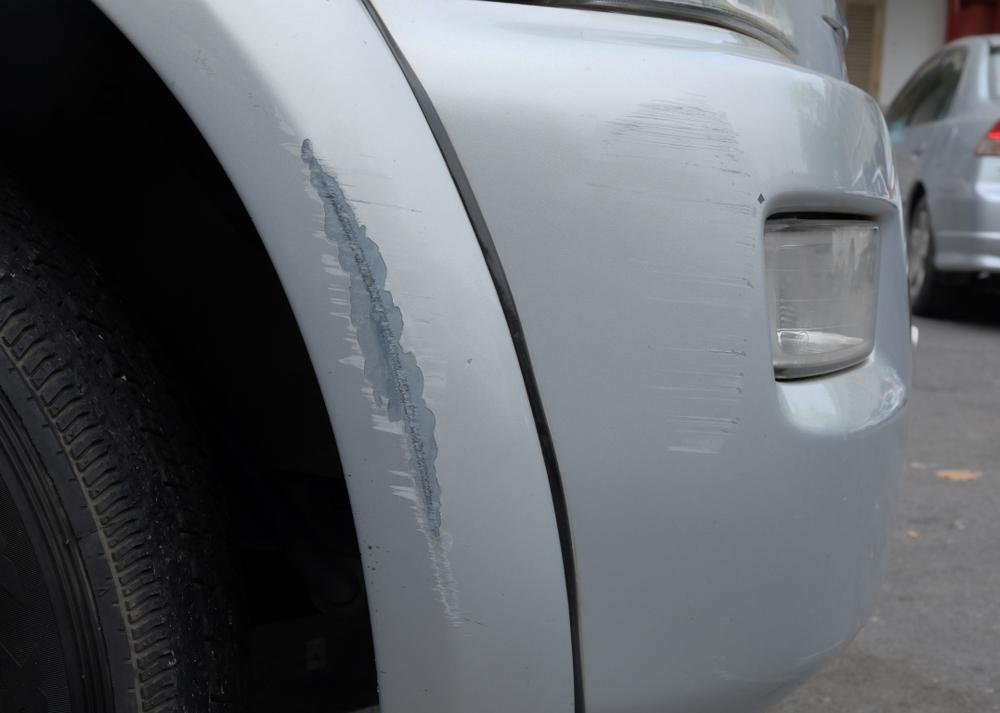scratch: (272, 123, 472, 633), (601, 89, 772, 464)
